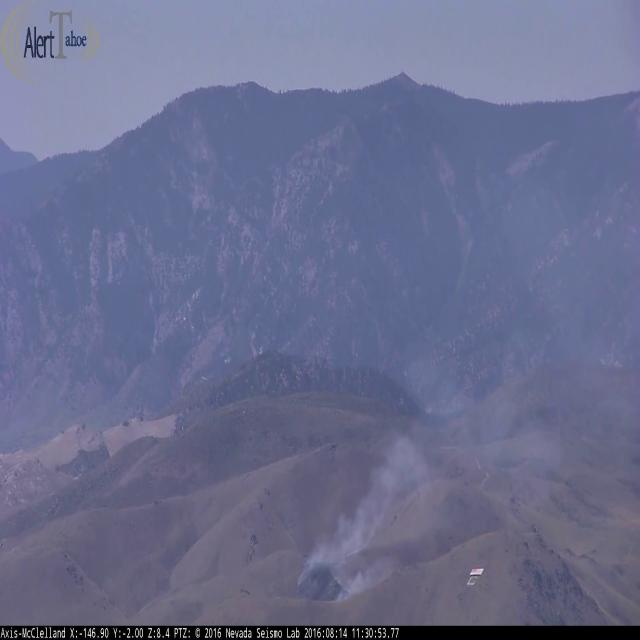smoke: (295, 295, 640, 603)
